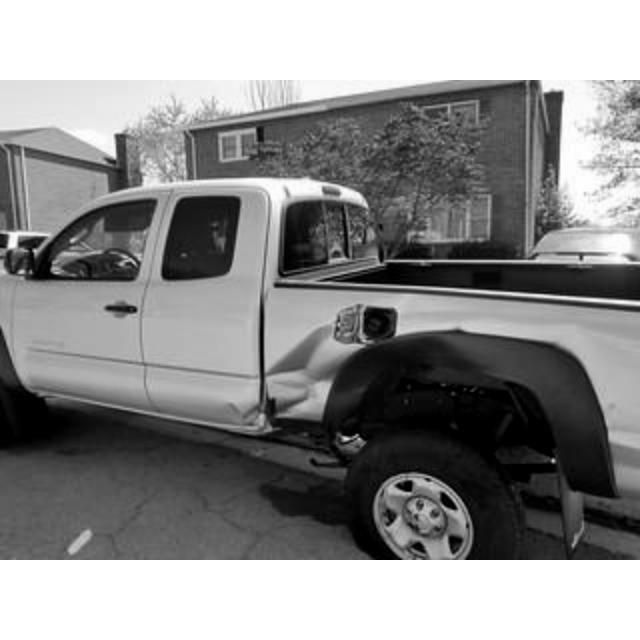doorouter-dent: (276, 298, 368, 430)
